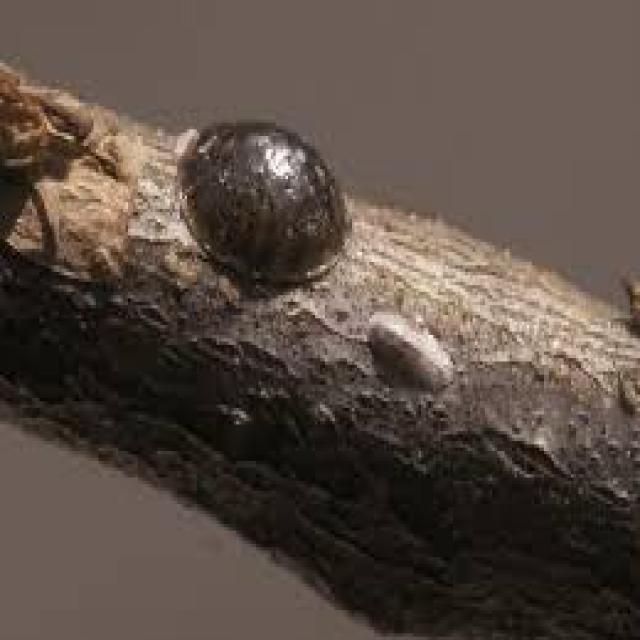BlackScale: (180, 120, 350, 292)
